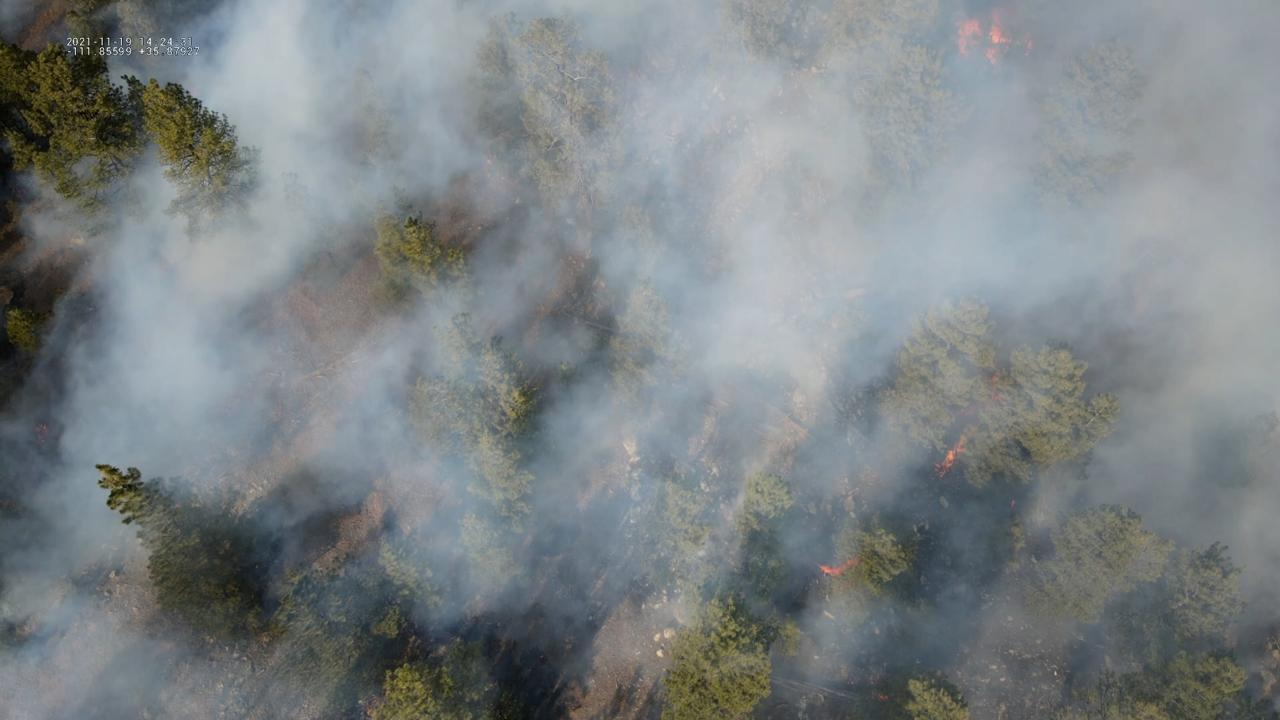fire: (985, 7, 1020, 67), (931, 436, 968, 481), (953, 16, 983, 56), (817, 557, 857, 578), (986, 372, 1005, 403), (31, 420, 49, 434), (1023, 38, 1035, 51), (1009, 497, 1017, 511)
smoke: (0, 0, 1280, 720)
